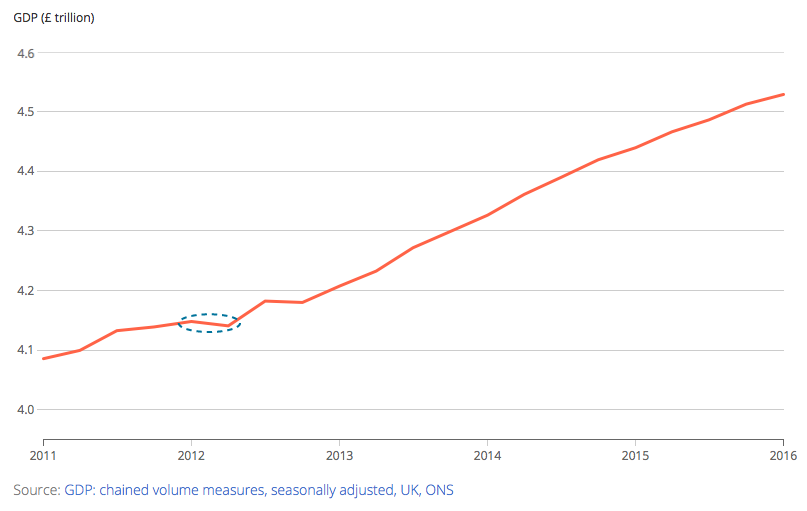S1_AxisNotZero: (3, 0, 807, 471)
